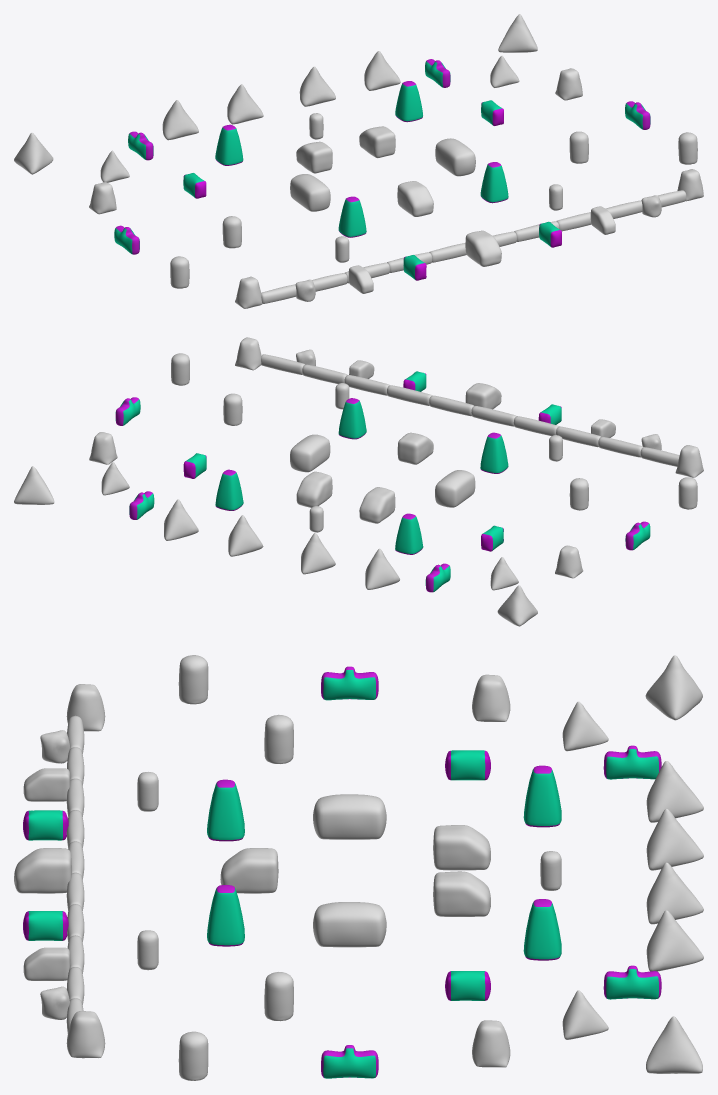
Rendered from 2025_NXL_Atlantic City.fbx.
The picture shows the model from 3 angles, top to bottom: view 1: azimuth 30°, elevation 25°; view 2: azimuth 150°, elevation 25°; view 3: azimuth 270°, elevation 25°; orthographic projection. The views are drawn at different scales.
Visible parts, largest first — view 1: Tower_M.001; view 2: Tower_M.001; view 3: Tower_M.001.
Part boxes in pixels (left/top/right/bottom): Tower_M.001: left=14, top=14, right=703, bottom=308; Tower_M.001: left=14, top=337, right=703, bottom=626; Tower_M.001: left=14, top=655, right=703, bottom=1080.
Bounding box in the file's own units: 3967 × 254 × 2974.
